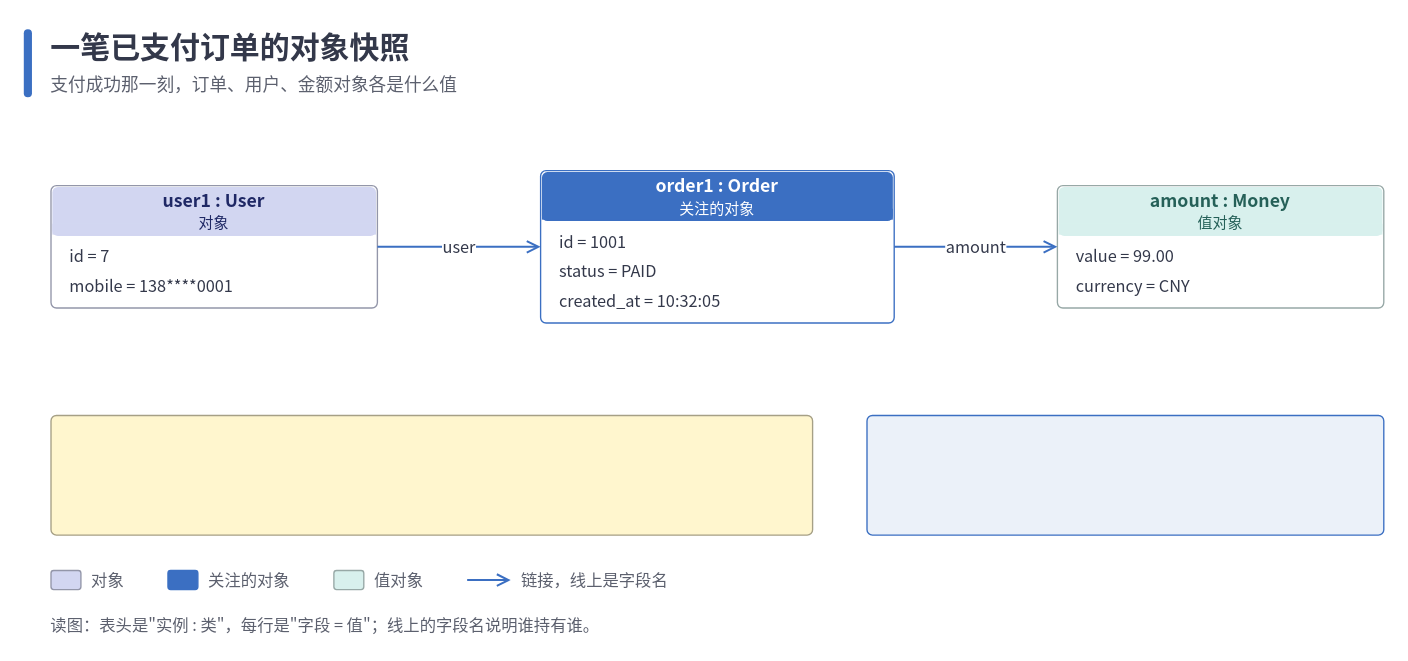
Image size: 1408x661. Some labels were removed from this diagram. Each missing label, with the centre of its shape:
"对照 类的定义见类图示例" belongs at pixel 1125 474.
"快照时刻 支付回调写入 status = PAID 之后 值取自测试库里的一笔真实订单" belongs at pixel 431 474.
